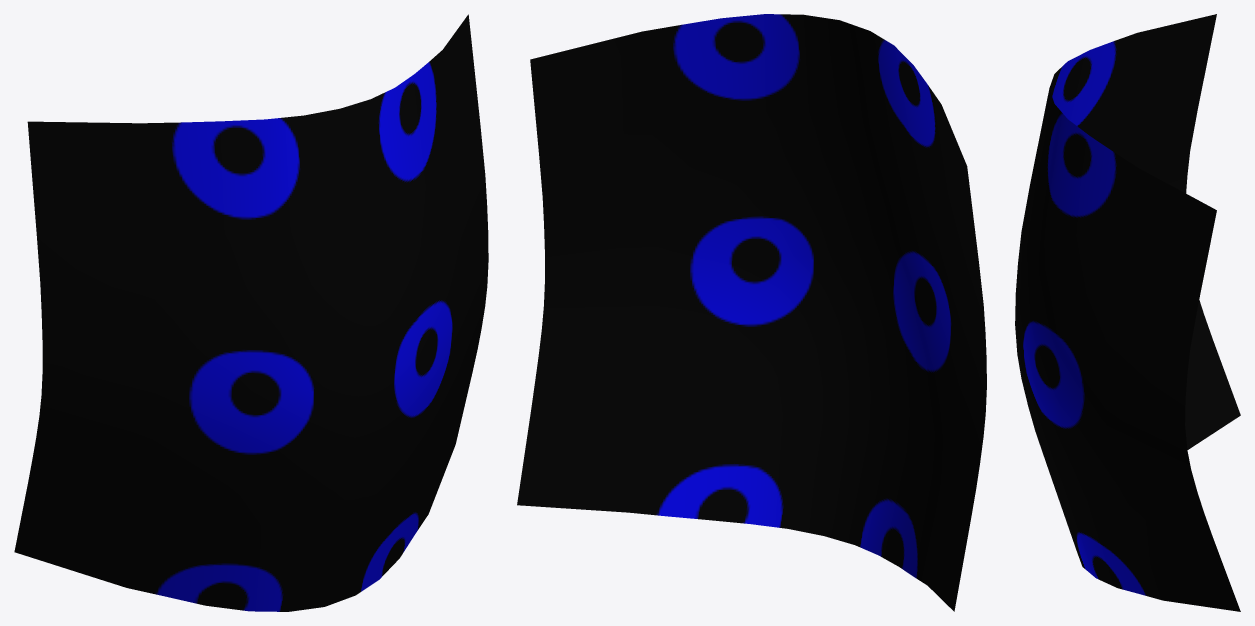
The model's file is Eyes_1.fbx.
3 renders of one model, left to right at view 1: azimuth 30°, elevation 25°; view 2: azimuth 150°, elevation 25°; view 3: azimuth 270°, elevation 25°, orthographic. The views are drawn at different scales.
Visible parts, largest first — view 1: mesh0.001; view 2: mesh0.001; view 3: mesh0.001.
Part boxes in pixels (x1=…): mesh0.001: x1=14, y1=14, x2=488, y2=611; mesh0.001: x1=517, y1=14, x2=986, y2=611; mesh0.001: x1=1015, y1=14, x2=1240, y2=611.
Size of the model in its own units: 91.85 by 100 by 44.16.
